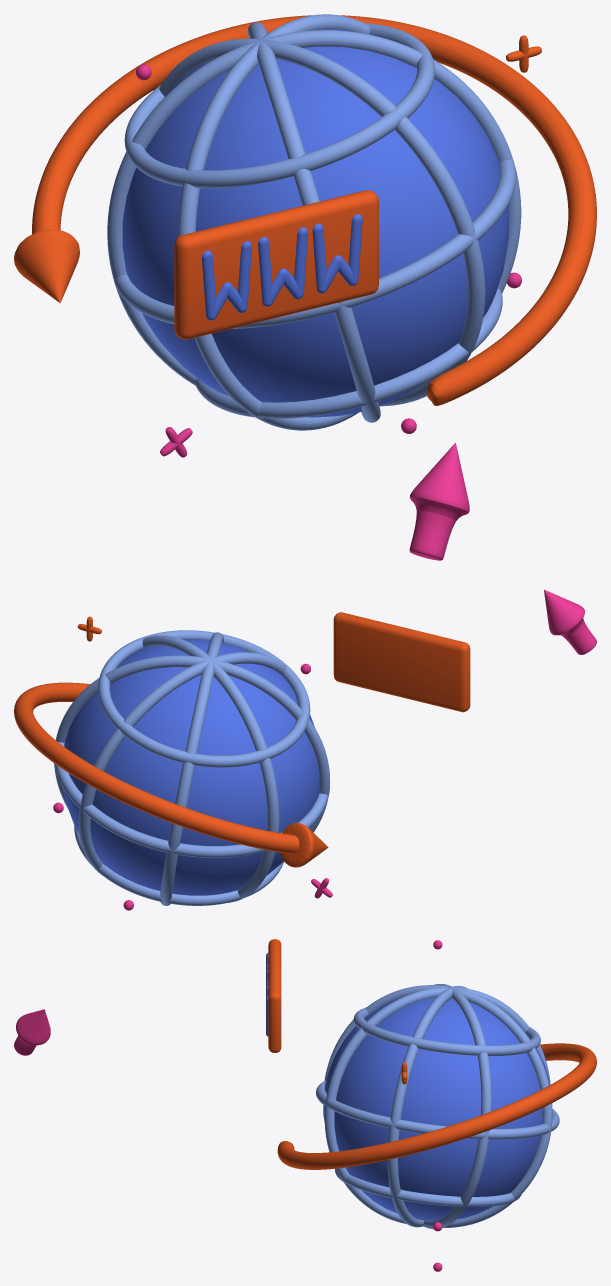
File: internet-3d-animated-icon-735558646478.glb
3 renders of one model, top to bottom at view 1: azimuth 30°, elevation 25°; view 2: azimuth 150°, elevation 25°; view 3: azimuth 270°, elevation 25°, orthographic. The views are drawn at different scales.
Visible parts, largest first — view 1: globe, arrow.001, box, arrow, www, www.001, www.002; view 2: globe, box, arrow.001, arrow; view 3: globe, arrow.001, box, arrow.
Part boxes in pixels (x1,y1,x2,y2): globe: (107, 14, 521, 430); arrow.001: (14, 15, 596, 405); box: (174, 190, 378, 339); arrow: (409, 443, 469, 560); www: (312, 214, 362, 293); www.001: (258, 227, 308, 306); www.002: (202, 241, 251, 320); globe: (54, 630, 330, 905); box: (333, 612, 470, 712); arrow.001: (14, 682, 328, 867); arrow: (544, 589, 596, 654); globe: (316, 984, 559, 1229); arrow.001: (277, 1043, 596, 1169); box: (268, 939, 281, 1052); arrow: (14, 1009, 50, 1055).
Size of the model in its own units: 5.15 by 4.13 by 8.57.
